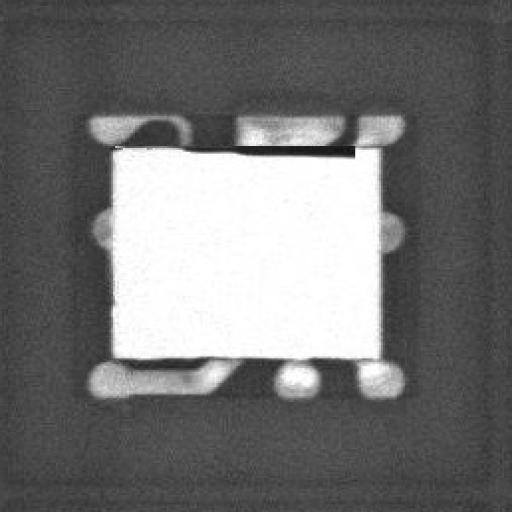DIE_BROKEN: (189, 140, 355, 158)
